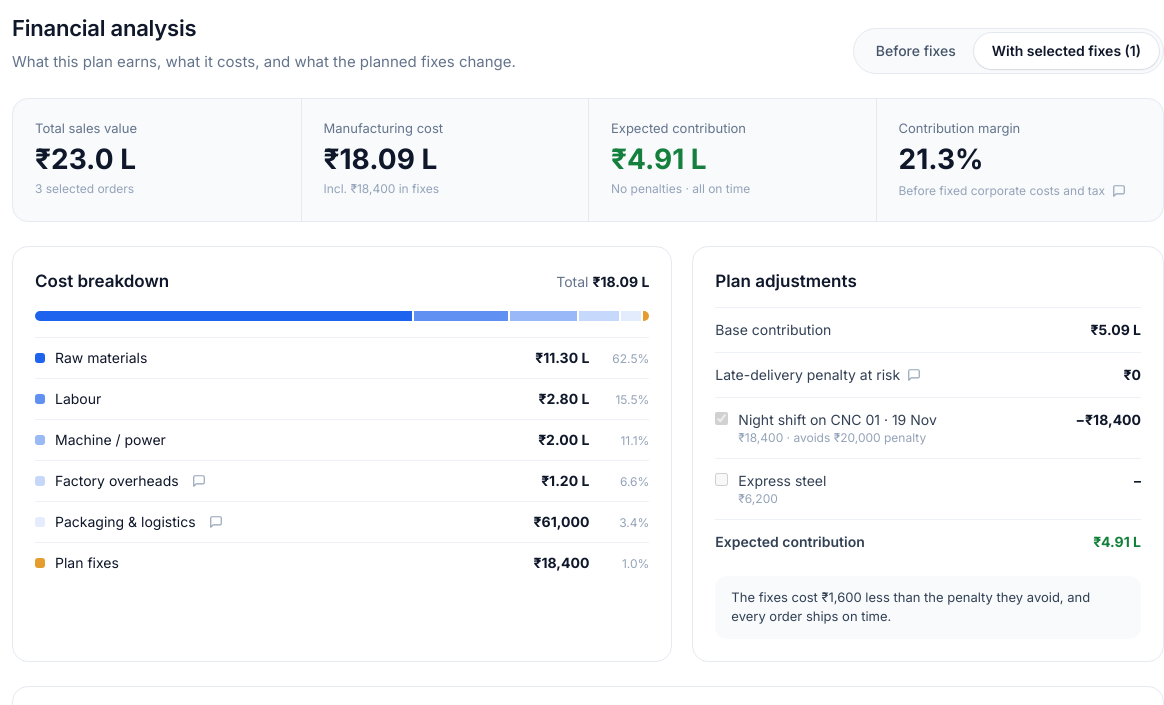
it: with selected fixes: fix cost line, no penalty, the insight compares cost and penalty
The image size is (1164, 705).
Expected: the tab "With selected fixes (1)" is shown, [974, 32, 1159, 68]
Expected: the text "No penalties · all on time" is shown, [611, 181, 750, 196]
Click the tab "Before fixes". click: (916, 50)
box: [858, 32, 974, 68]
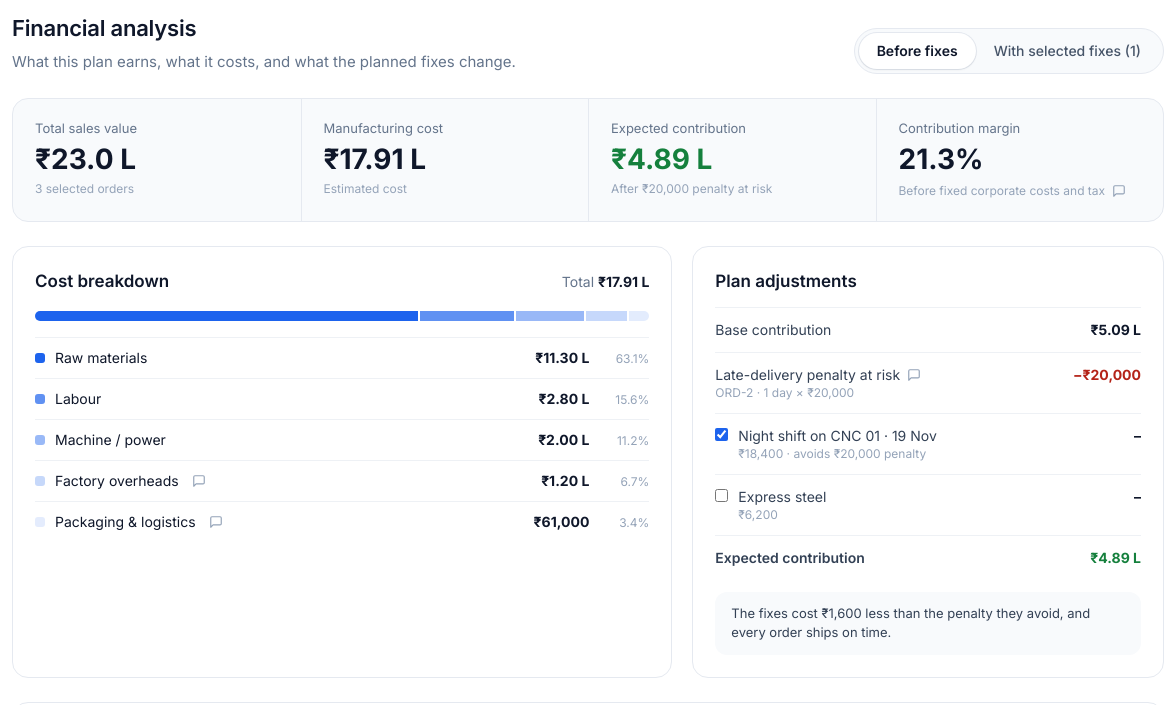
Result: the text "After ₹20,000 penalty at risk" is shown at [611, 181, 772, 196]
